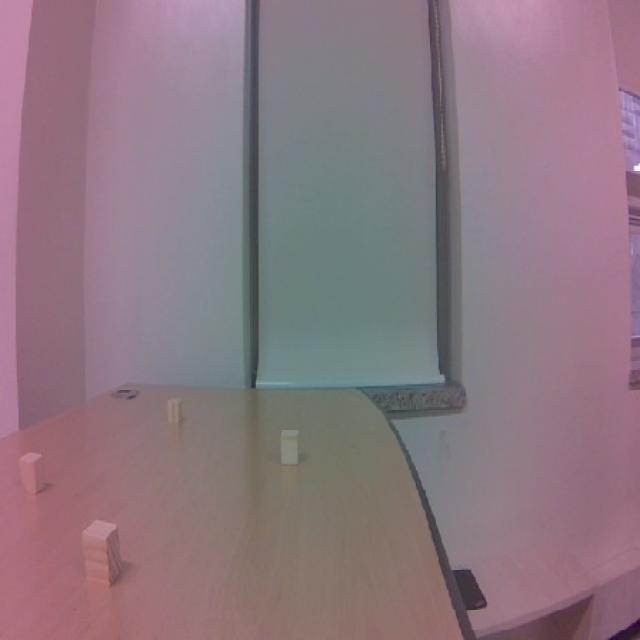obstacle: (74, 510, 134, 592), (14, 444, 52, 498), (273, 423, 308, 470), (162, 395, 188, 429)
